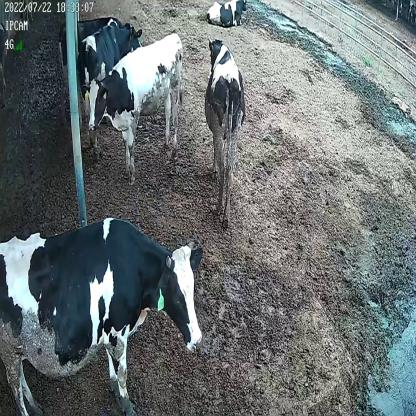cow: (0, 215, 202, 416), (87, 28, 185, 189), (204, 35, 246, 226), (80, 17, 142, 118), (207, 0, 249, 28)
